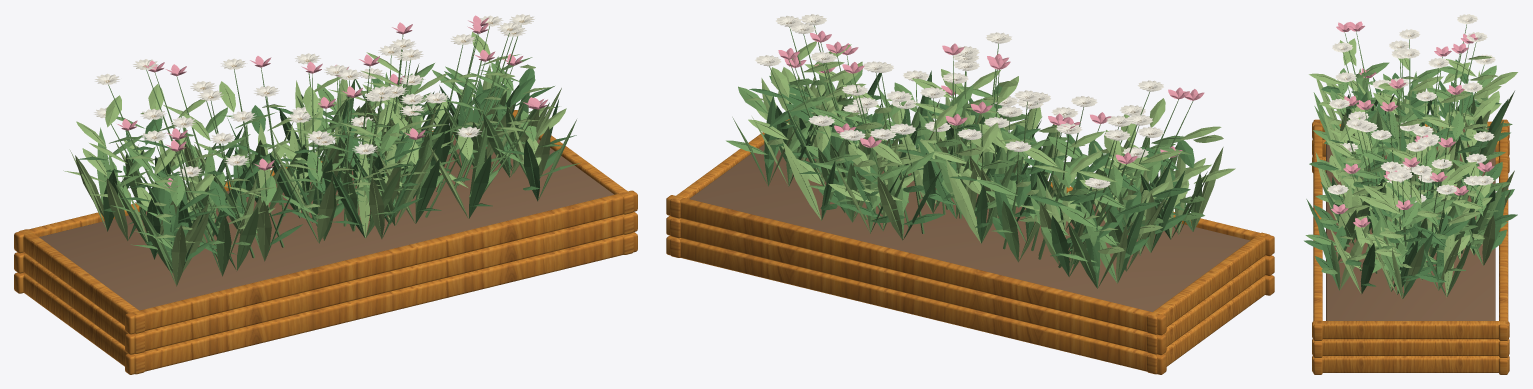
The model's file is raised-flowerbed.glb.
The picture shows the model from 3 angles, left to right: view 1: azimuth 30°, elevation 25°; view 2: azimuth 150°, elevation 25°; view 3: azimuth 270°, elevation 25°; orthographic projection. The views are drawn at different scales.
Parts seen in each view (by area): view 1: raised-flowerbed; view 2: raised-flowerbed; view 3: raised-flowerbed.
Part boxes in pixels (<box>): raised-flowerbed: <box>14,14,637,374</box>; raised-flowerbed: <box>666,14,1274,374</box>; raised-flowerbed: <box>1304,14,1517,374</box>.
Size of the model in its own units: 1.6 by 0.65 by 0.7.
Materials: 8 (1 with a texture image).
